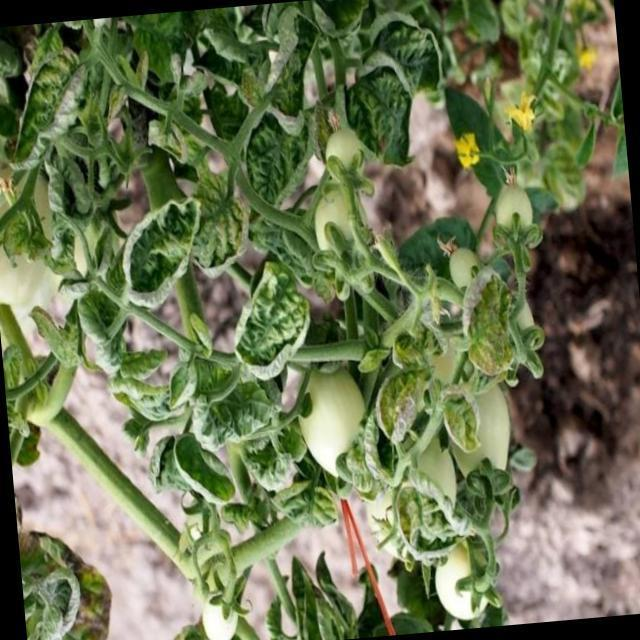Yellow Curl Virus: (216, 264, 316, 382), (120, 192, 208, 310), (348, 8, 446, 102), (170, 422, 238, 516), (160, 353, 203, 408)
